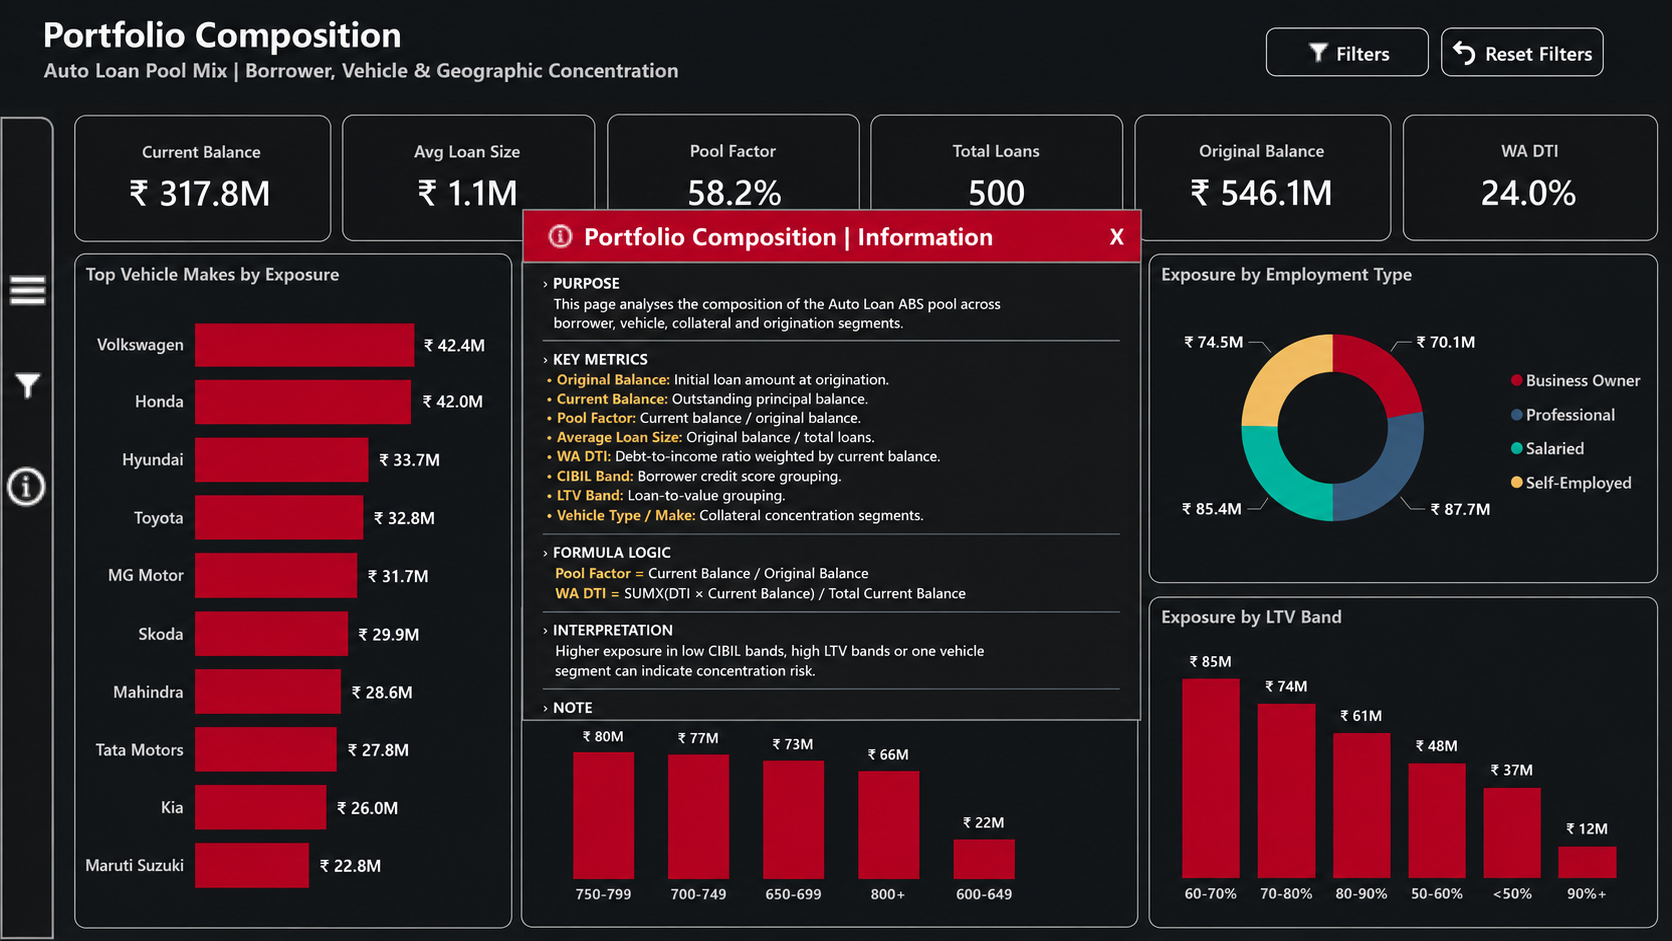

This screenshot's page, from the dashboard's own definition file:
{"tool":"powerbi","page":{"name":"Portfolio Composition","canvas":[1280,720],"ordinal":1},"visuals":[{"type":"group","id":"g1","title":"default page ","box":[0,0,1280,86.5],"z":0},{"type":"textbox","title":"Executive Overview","box":[0,0,1280,86.5],"z":0,"group":"g1"},{"type":"cardVisual","fields":{"Data":["Loan_Master.Total Current Balance","Loan_Master.Average Loan Size","Loan_Master.Pool Factor","Loan_Master.Total Loans","Loan_Master.Total Original Balance","Loan_Master.WA DTI"]},"box":[45,77.1,1235,155.9],"z":0,"group":"g3"},{"type":"shape","box":[0,93.3,44.5,625],"z":0,"group":"g2"},{"type":"shape","box":[350.8,142.2,576.7,429.8],"z":0,"group":"g4"},{"type":"actionButton","box":[1097.5,23.1,124.4,39],"z":1000,"group":"g1"},{"type":"textbox","box":[350,172.9,577.3,398.9],"z":1000,"group":"g4"},{"type":"actionButton","box":[0,180.5,44.7,77.6],"z":1000,"group":"g2"},{"type":"donutChart","title":"Exposure by Employment Type","fields":{"Category":["Loan_Master.EmploymentType"],"Y":["Loan_Master.Total Current Balance"]},"box":[838.2,224.4,424.1,231.6],"z":1000,"group":"g3"},{"type":"actionButton","box":[965.9,23.1,124.4,39],"z":2000,"group":"g1"},{"type":"shape","box":[350,120,579.1,52.1],"z":2000,"group":"g4"},{"type":"donutChart","title":"Exposure by Vehicle Type","fields":{"Y":["Loan_Master.Total Current Balance"],"Category":["Loan_Master.VehicleType"]},"box":[444.1,224.4,385.6,233],"z":2000,"group":"g3"},{"type":"actionButton","box":[0,257.1,45,76.9],"z":2000,"group":"g2"},{"type":"group","id":"g2","title":"navigation bar","box":[0,93.3,45,625],"z":3000},{"type":"actionButton","box":[887.2,120,42.8,53.8],"z":3000,"group":"g4"},{"type":"clusteredBarChart","title":"Top Vehicle Makes by Exposure","fields":{"Category":["Loan_Master.VehicleMake"],"Y":["Loan_Master.Total Current Balance"]},"box":[64.2,224.4,372.7,486],"z":3000,"group":"g3"},{"type":"actionButton","box":[0,334.1,45,78.3],"z":3000,"group":"g2"},{"type":"textbox","box":[398.6,120,406.2,49.7],"z":4000,"group":"g4"},{"type":"clusteredColumnChart","title":"Exposure by CIBIL Band","fields":{"Category":["Loan_Master.CIBIL Band"],"Y":["Loan_Master.Total Current Balance"]},"box":[443.4,465.9,385.6,243],"z":4000,"group":"g3"},{"type":"group","id":"g3","title":"charts unfolded 2","box":[45,77.1,1235,633.3],"z":5000},{"type":"actionButton","box":[377.2,125.9,27.2,32],"z":5000,"group":"g4"},{"type":"clusteredColumnChart","title":"Exposure by LTV Band","fields":{"Category":["Loan_Master.LTV Band"],"Y":["Loan_Master.Total Current Balance"]},"box":[838.7,466.5,424.1,243],"z":5000,"group":"g3"},{"type":"group","id":"g4","title":"info","box":[350,120,580,452],"z":7000}]}

Visuals, with their boxes in screenshot pixels (x1, y1, x2, y2), scaled from the page's 1280x720 canvas onto the 1672x941 screenshot:
"default page " group: l=0, t=0, r=1671, b=113
"Executive Overview" textbox: l=0, t=0, r=1671, b=113
cardVisual - Loan_Master.Total Current Balance x Loan_Master.Average Loan Size: l=59, t=101, r=1671, b=305
shape: l=0, t=122, r=58, b=939
shape: l=458, t=186, r=1212, b=748
actionButton: l=1434, t=30, r=1596, b=81
textbox: l=457, t=226, r=1211, b=747
actionButton: l=0, t=236, r=58, b=337
"Exposure by Employment Type" donutChart: l=1095, t=293, r=1649, b=596
actionButton: l=1262, t=30, r=1424, b=81
shape: l=457, t=157, r=1214, b=225
"Exposure by Vehicle Type" donutChart: l=580, t=293, r=1084, b=598
actionButton: l=0, t=336, r=59, b=437
"navigation bar" group: l=0, t=122, r=59, b=939
actionButton: l=1159, t=157, r=1215, b=227
"Top Vehicle Makes by Exposure" clusteredBarChart: l=84, t=293, r=571, b=928
actionButton: l=0, t=437, r=59, b=539
textbox: l=521, t=157, r=1051, b=222
"Exposure by CIBIL Band" clusteredColumnChart: l=579, t=609, r=1083, b=926
"charts unfolded 2" group: l=59, t=101, r=1671, b=928
actionButton: l=493, t=165, r=528, b=206
"Exposure by LTV Band" clusteredColumnChart: l=1096, t=610, r=1650, b=927
"info" group: l=457, t=157, r=1215, b=748
